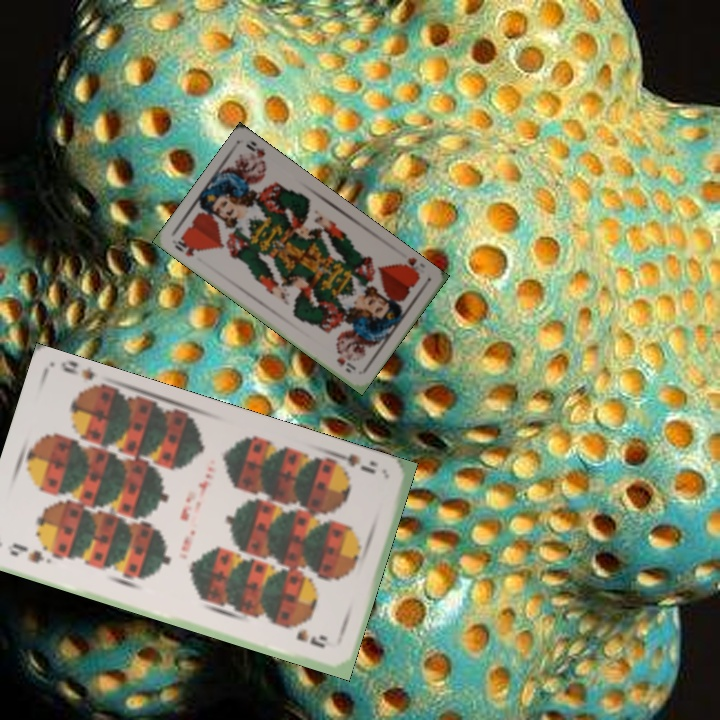HO: (395, 253, 423, 281), (170, 234, 201, 259)
S9: (329, 448, 380, 477), (5, 539, 46, 566)
